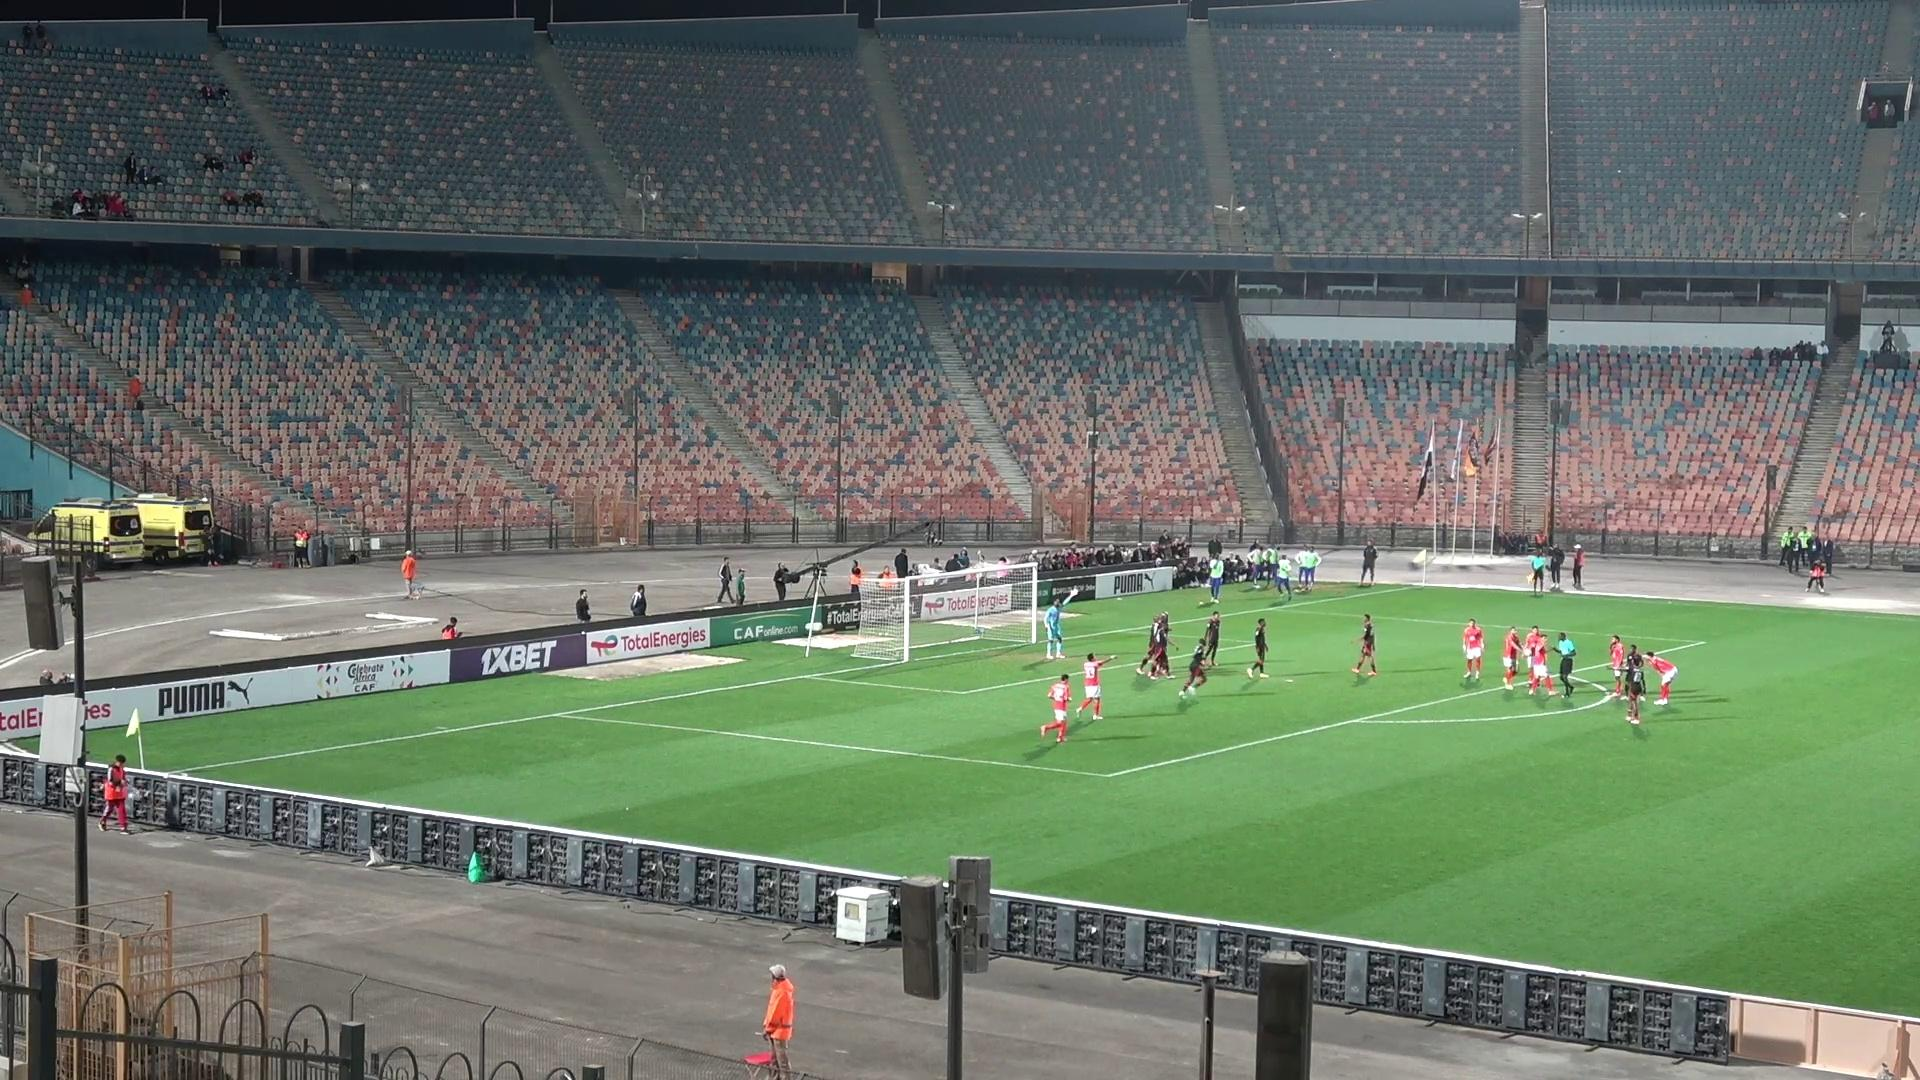GK2: (1044, 588, 1075, 658)
Refree: (1555, 632, 1576, 698), (1528, 549, 1549, 593)
Team1: (1039, 675, 1071, 742), (1606, 634, 1639, 698), (1527, 629, 1552, 695), (1077, 654, 1102, 719), (1648, 653, 1677, 705), (1524, 625, 1545, 694), (1462, 618, 1485, 682), (1501, 626, 1522, 691)
Team2: (1609, 650, 1644, 725), (1137, 613, 1168, 679), (1179, 637, 1209, 698), (1615, 644, 1644, 705), (1350, 613, 1377, 676), (1246, 618, 1269, 679), (1203, 612, 1222, 669)
